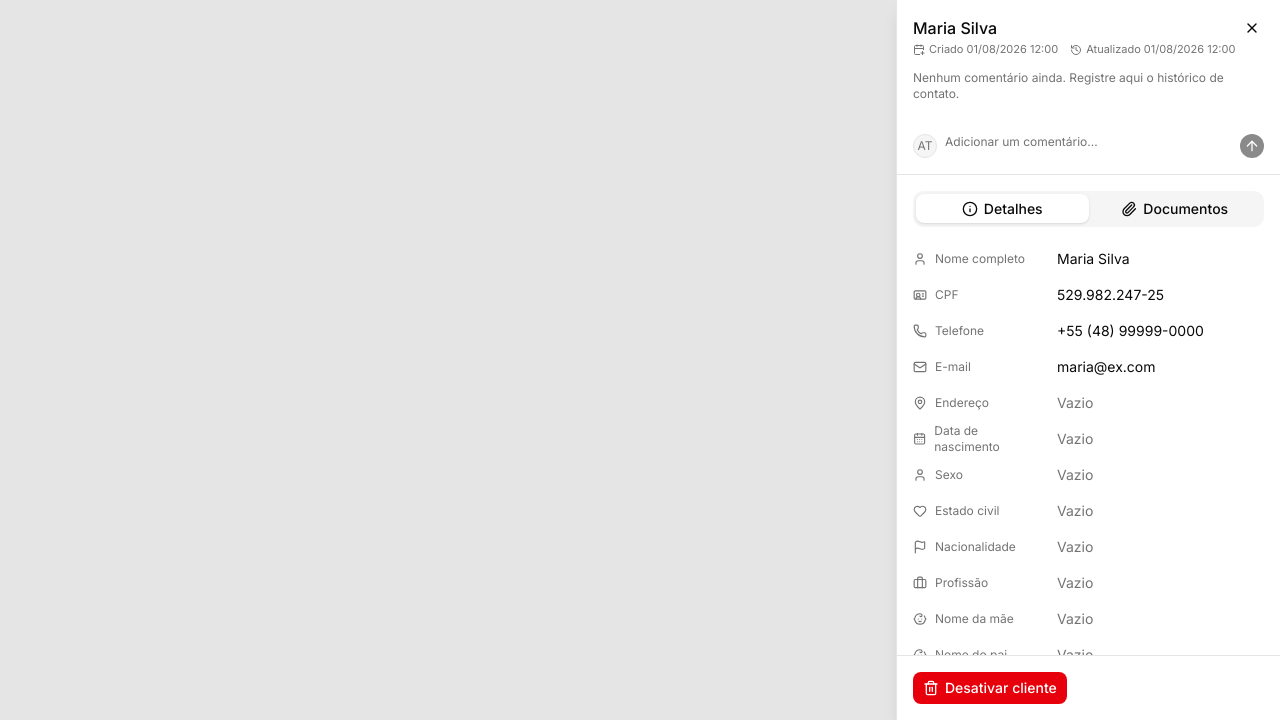
Test case: ClienteSheet › clicar em um dado abre aquele campo para edição
Click the button with aria-label "Editar Nome completo" at (1156, 259), box [1049,243,1264,275]
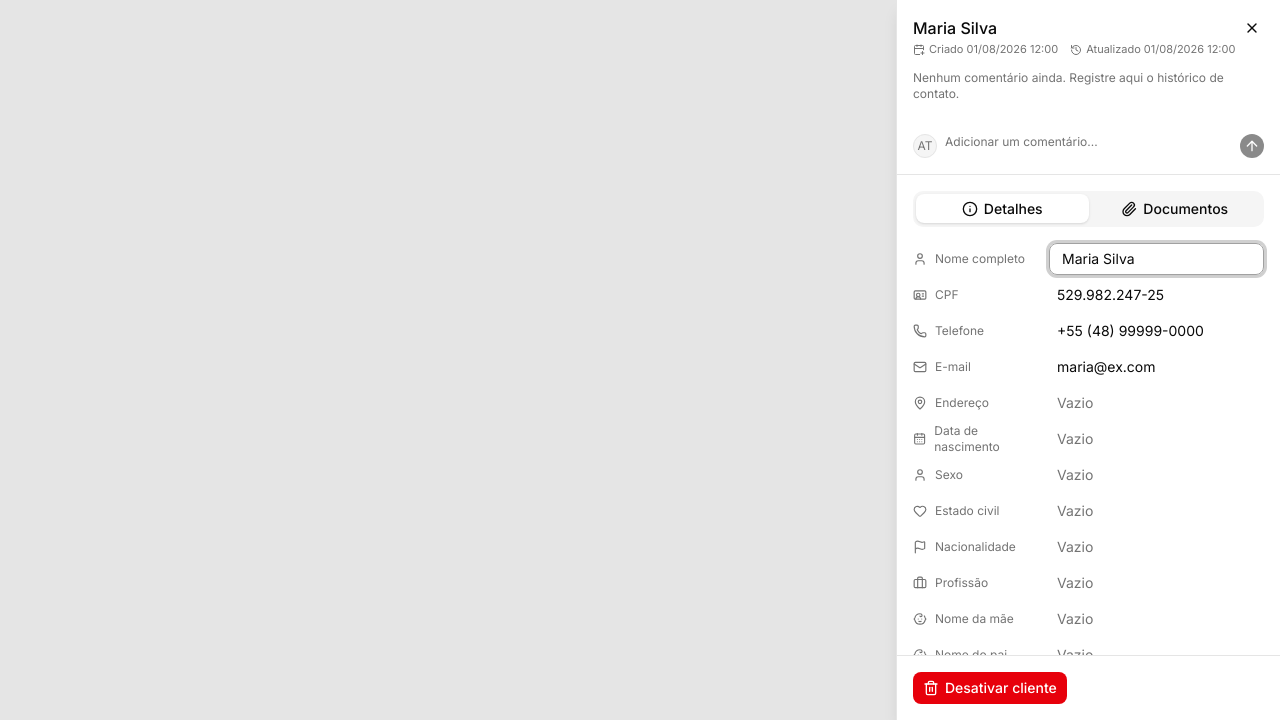
Check: the field labelled "Nome completo" holds "Maria Silva", box [1049,243,1264,275]
